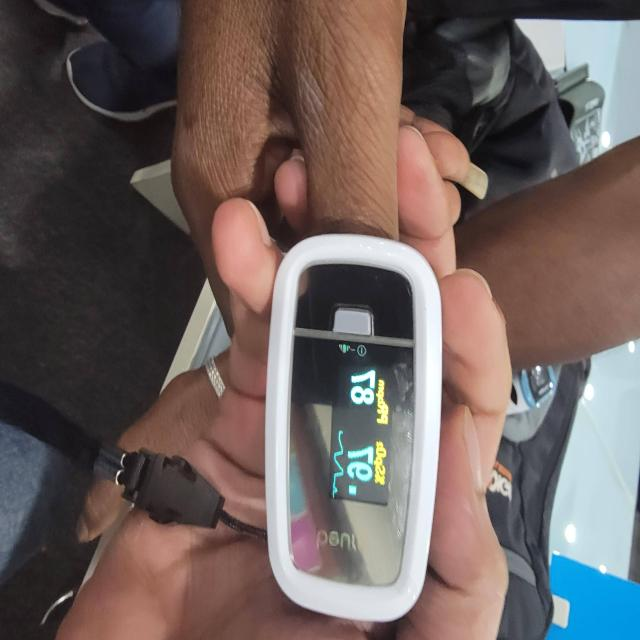spo2: (264, 235, 444, 626)
